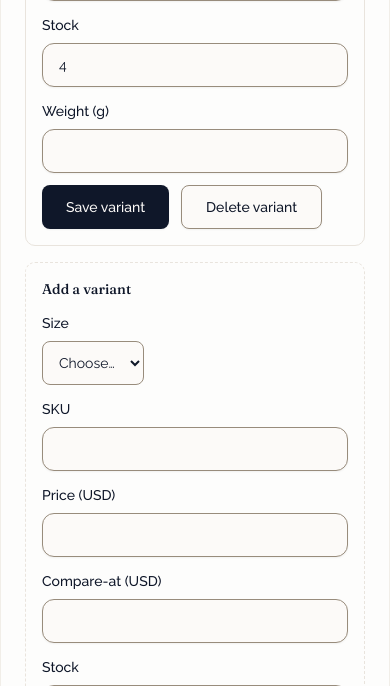
Test: ProductEditor accessibility › announces an added variant with role status
(page scrolled)
Select "M" in the dropdown labelled "Size" at x=93, y=363, box left=42, top=341, right=144, bottom=385
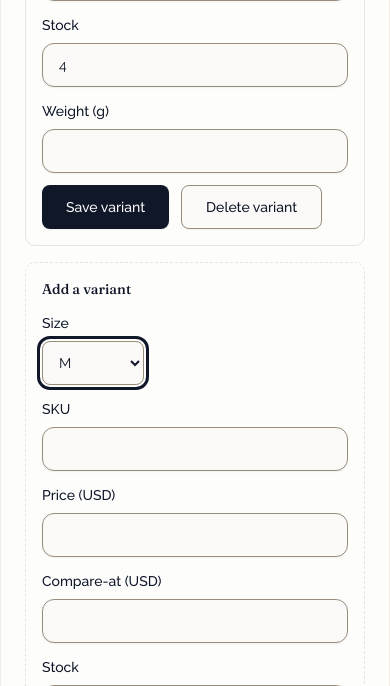
Type "TEE-M" into the field labelled "SKU" at x=195, y=449, box left=42, top=427, right=348, bottom=471
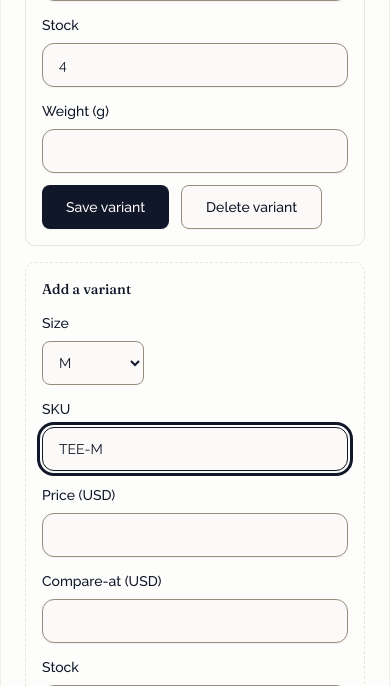
Type "13" into the field labelled "Price (USD)" at x=195, y=535, box left=42, top=513, right=348, bottom=557
(page scrolled)
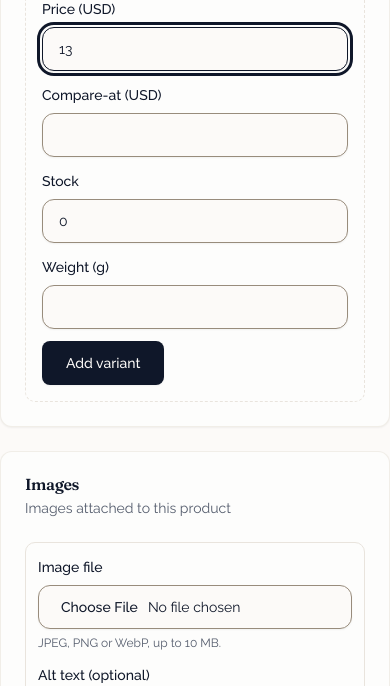
Click the button "Add variant" at x=103, y=363, box left=42, top=341, right=164, bottom=385
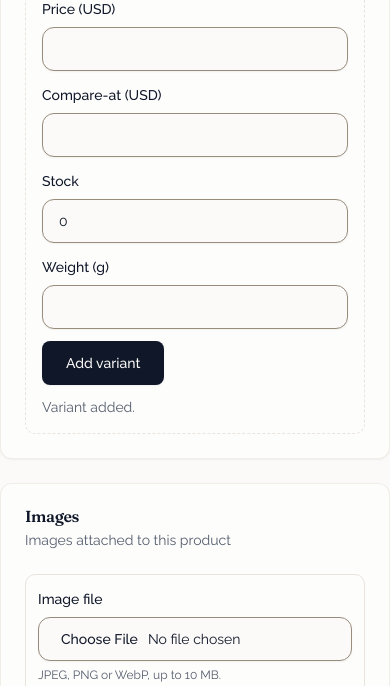
Check: the message reads "Variant added.", box left=42, top=399, right=135, bottom=415
